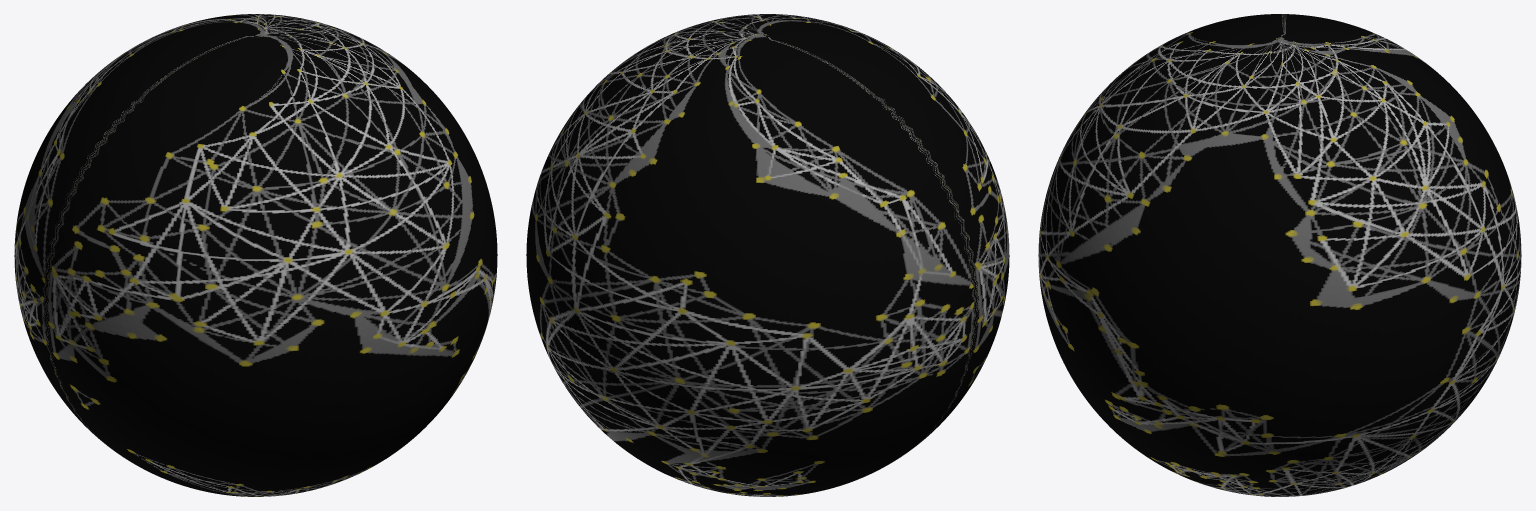
Rendered from network_globe.glb.
3 renders of one model, left to right at view 1: azimuth 30°, elevation 25°; view 2: azimuth 150°, elevation 25°; view 3: azimuth 270°, elevation 25°, orthographic.
Parts seen in each view (by area): view 1: world; view 2: world; view 3: world.
Part boxes in pixels (x1,y1,x2,y2): world: [14, 14, 497, 496]; world: [526, 14, 1009, 496]; world: [1038, 14, 1521, 496].
Size of the model in its own units: 2 by 2 by 2.
Materials: 1 (1 with a texture image).
